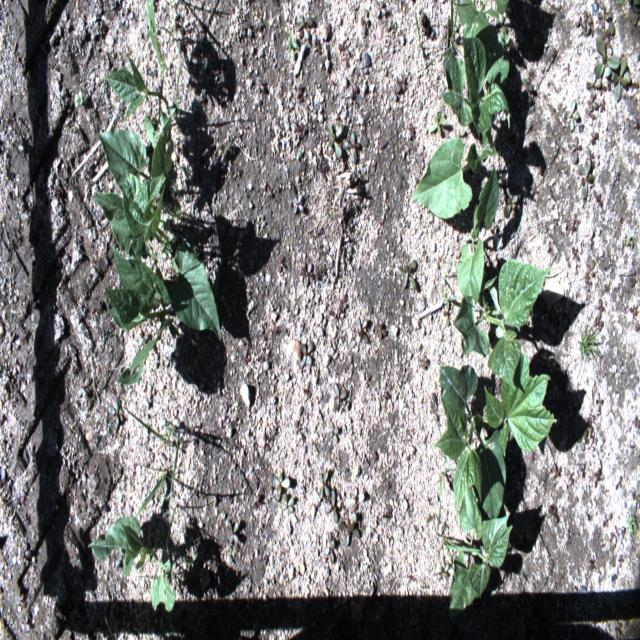crop: (433, 353, 558, 531), (105, 246, 221, 385), (92, 115, 182, 259), (453, 256, 551, 388), (107, 3, 182, 148), (90, 514, 176, 615), (413, 130, 499, 220), (444, 511, 514, 618), (440, 37, 511, 134), (455, 164, 500, 299), (451, 0, 510, 35)
weed: (123, 407, 178, 522), (158, 1, 187, 113), (431, 400, 449, 576), (136, 464, 166, 514), (594, 35, 625, 79), (414, 6, 432, 70), (610, 57, 632, 102), (444, 2, 459, 54), (398, 259, 420, 291), (326, 124, 343, 160), (578, 160, 594, 198), (580, 333, 601, 361), (270, 472, 290, 501), (337, 521, 359, 547), (596, 21, 615, 50), (564, 101, 580, 133), (344, 132, 359, 164), (441, 280, 459, 305), (504, 188, 519, 216), (578, 9, 593, 35), (585, 74, 602, 96), (298, 343, 314, 366), (332, 383, 346, 409), (286, 33, 300, 58), (327, 488, 337, 523), (109, 397, 119, 431), (318, 470, 330, 498), (294, 14, 312, 32), (226, 520, 239, 544), (432, 112, 446, 134), (326, 530, 335, 562), (282, 492, 294, 515), (523, 79, 534, 104), (356, 318, 367, 342), (302, 266, 312, 289), (597, 5, 612, 20), (572, 138, 581, 161), (627, 514, 637, 532), (293, 194, 302, 214), (327, 425, 338, 441), (75, 91, 85, 106), (626, 232, 634, 246)
